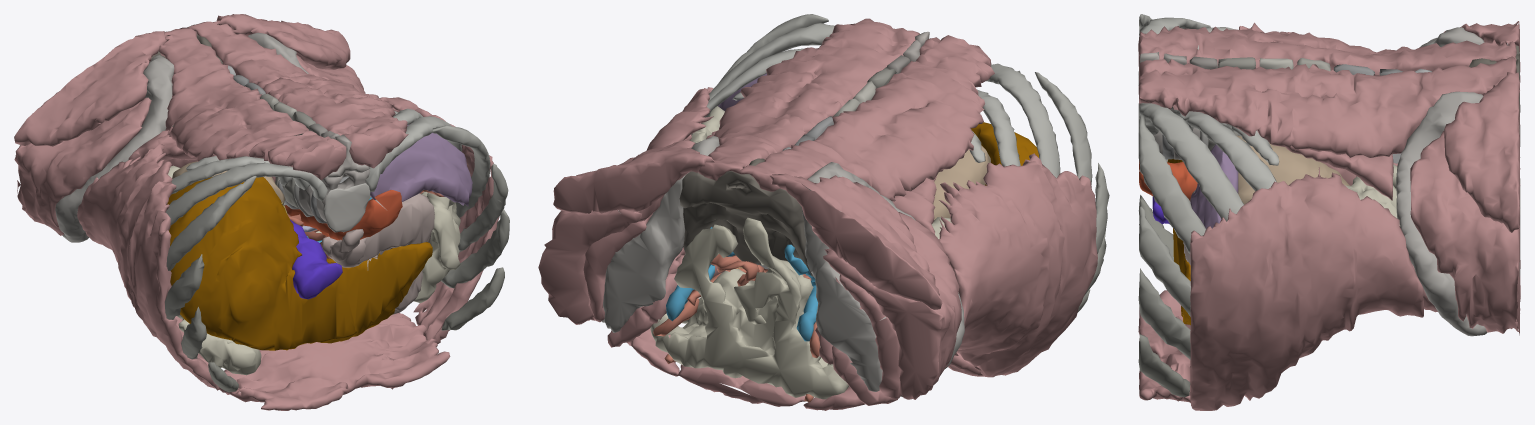
3 renders of one model, left to right at view 1: azimuth 30°, elevation 25°; view 2: azimuth 150°, elevation 25°; view 3: azimuth 270°, elevation 25°, orthographic. The views are drawn at different scales.
Visible parts, largest first — view 1: liver, right erector spinae muscle, right external oblique muscle, rectus abdominis muscle, left erector spinae muscle, right gluteus maximus muscle, right gluteus medius muscle, colon and ileum, spleen, Pelvis, stomach and duodenum, Rib10 (+16 smaller); view 2: right external oblique muscle, right erector spinae muscle, colon and ileum, left erector spinae muscle, Pelvis, right gluteus maximus muscle, right gluteus medius muscle, Sacrum, left gluteus maximus muscle, left gluteus medius muscle, Rib10, Rib9 (+18 smaller); view 3: left external oblique muscle, left erector spinae muscle, left gluteus medius muscle, right erector spinae muscle, left gluteus maximus muscle, Pelvis, Rib10, Rib9, Rib11, rectus abdominis muscle, Rib8, Rib7 (+12 smaller).
Part boxes in pixels (left/top/right/bottom): liver: left=167, top=177, right=432, bottom=350; right erector spinae muscle: left=159, top=26, right=346, bottom=180; right external oblique muscle: left=77, top=144, right=239, bottom=394; rectus abdominis muscle: left=224, top=312, right=450, bottom=410; left erector spinae muscle: left=190, top=20, right=408, bottom=168; right gluteus maximus muscle: left=14, top=31, right=170, bottom=146; right gluteus medius muscle: left=14, top=97, right=151, bottom=235; colon and ileum: left=168, top=165, right=460, bottom=375; spleen: left=370, top=125, right=472, bottom=206; Pelvis: left=55, top=32, right=308, bottom=242; stomach and duodenum: left=321, top=193, right=434, bottom=314; Rib10: left=166, top=116, right=462, bottom=225; right external oblique muscle: left=938, top=153, right=1097, bottom=377; right erector spinae muscle: left=739, top=35, right=994, bottom=201; colon and ileum: left=650, top=106, right=951, bottom=399; left erector spinae muscle: left=698, top=18, right=919, bottom=180; Pelvis: left=601, top=135, right=964, bottom=396; right gluteus maximus muscle: left=769, top=173, right=942, bottom=309; right gluteus medius muscle: left=823, top=212, right=961, bottom=399; Sacrum: left=679, top=158, right=813, bottom=276; left gluteus maximus muscle: left=553, top=139, right=714, bottom=213; left gluteus medius muscle: left=538, top=195, right=663, bottom=324; Rib10: left=707, top=23, right=1060, bottom=177; Rib9: left=708, top=14, right=1092, bottom=184; left external oblique muscle: left=1190, top=167, right=1423, bottom=410; left erector spinae muscle: left=1138, top=56, right=1516, bottom=157; left gluteus medius muscle: left=1410, top=131, right=1520, bottom=335; right erector spinae muscle: left=1138, top=26, right=1516, bottom=75; left gluteus maximus muscle: left=1444, top=72, right=1519, bottom=232; Pelvis: left=1396, top=27, right=1520, bottom=336; Rib10: left=1139, top=17, right=1244, bottom=221; Rib9: left=1138, top=14, right=1205, bottom=253; Rib11: left=1173, top=27, right=1276, bottom=191; rectus abdominis muscle: left=1138, top=260, right=1520, bottom=402; Rib8: left=1138, top=71, right=1190, bottom=316; Rib7: left=1138, top=159, right=1190, bottom=359.
Size of the model in its own units: 206 by 150 by 167.
